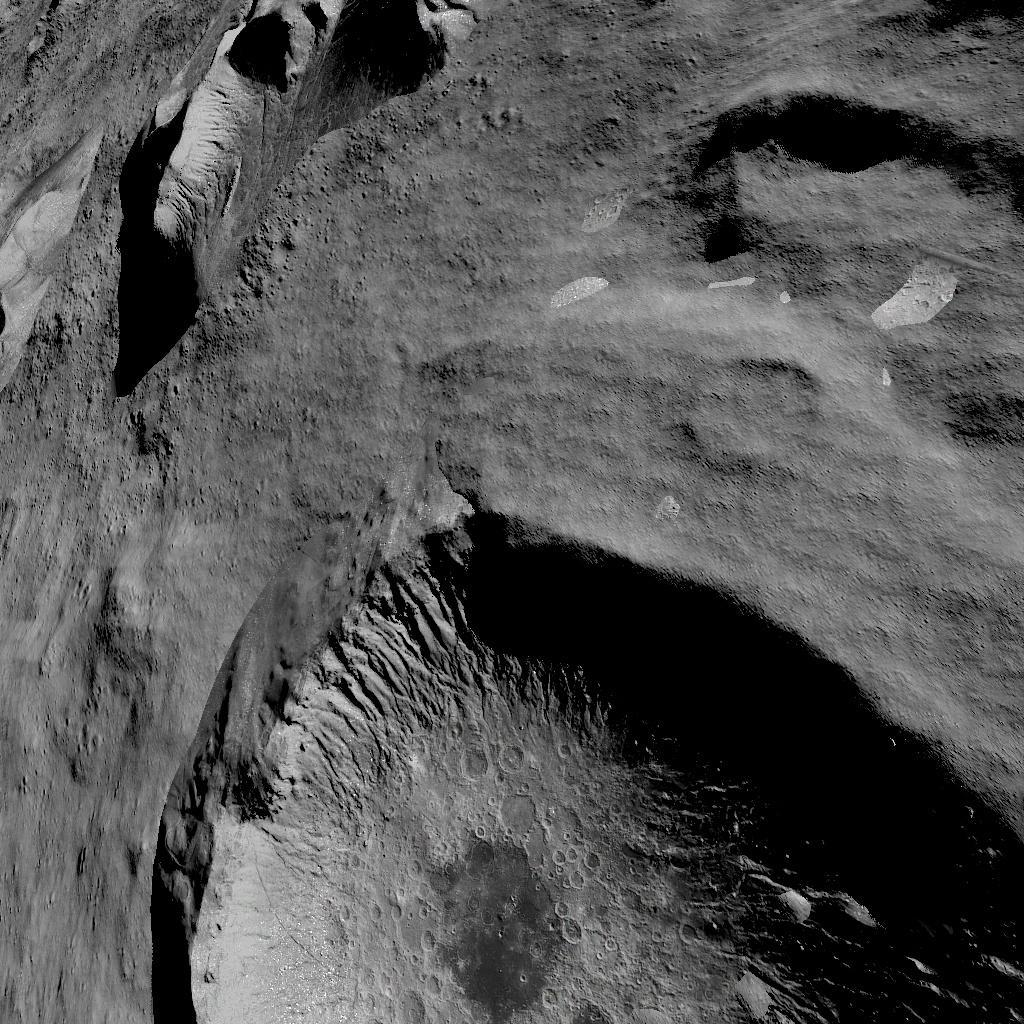Boulders: (138, 0, 501, 395), (0, 146, 127, 408)
Crater: (191, 500, 1024, 1024), (731, 66, 1024, 266), (713, 338, 874, 480)
